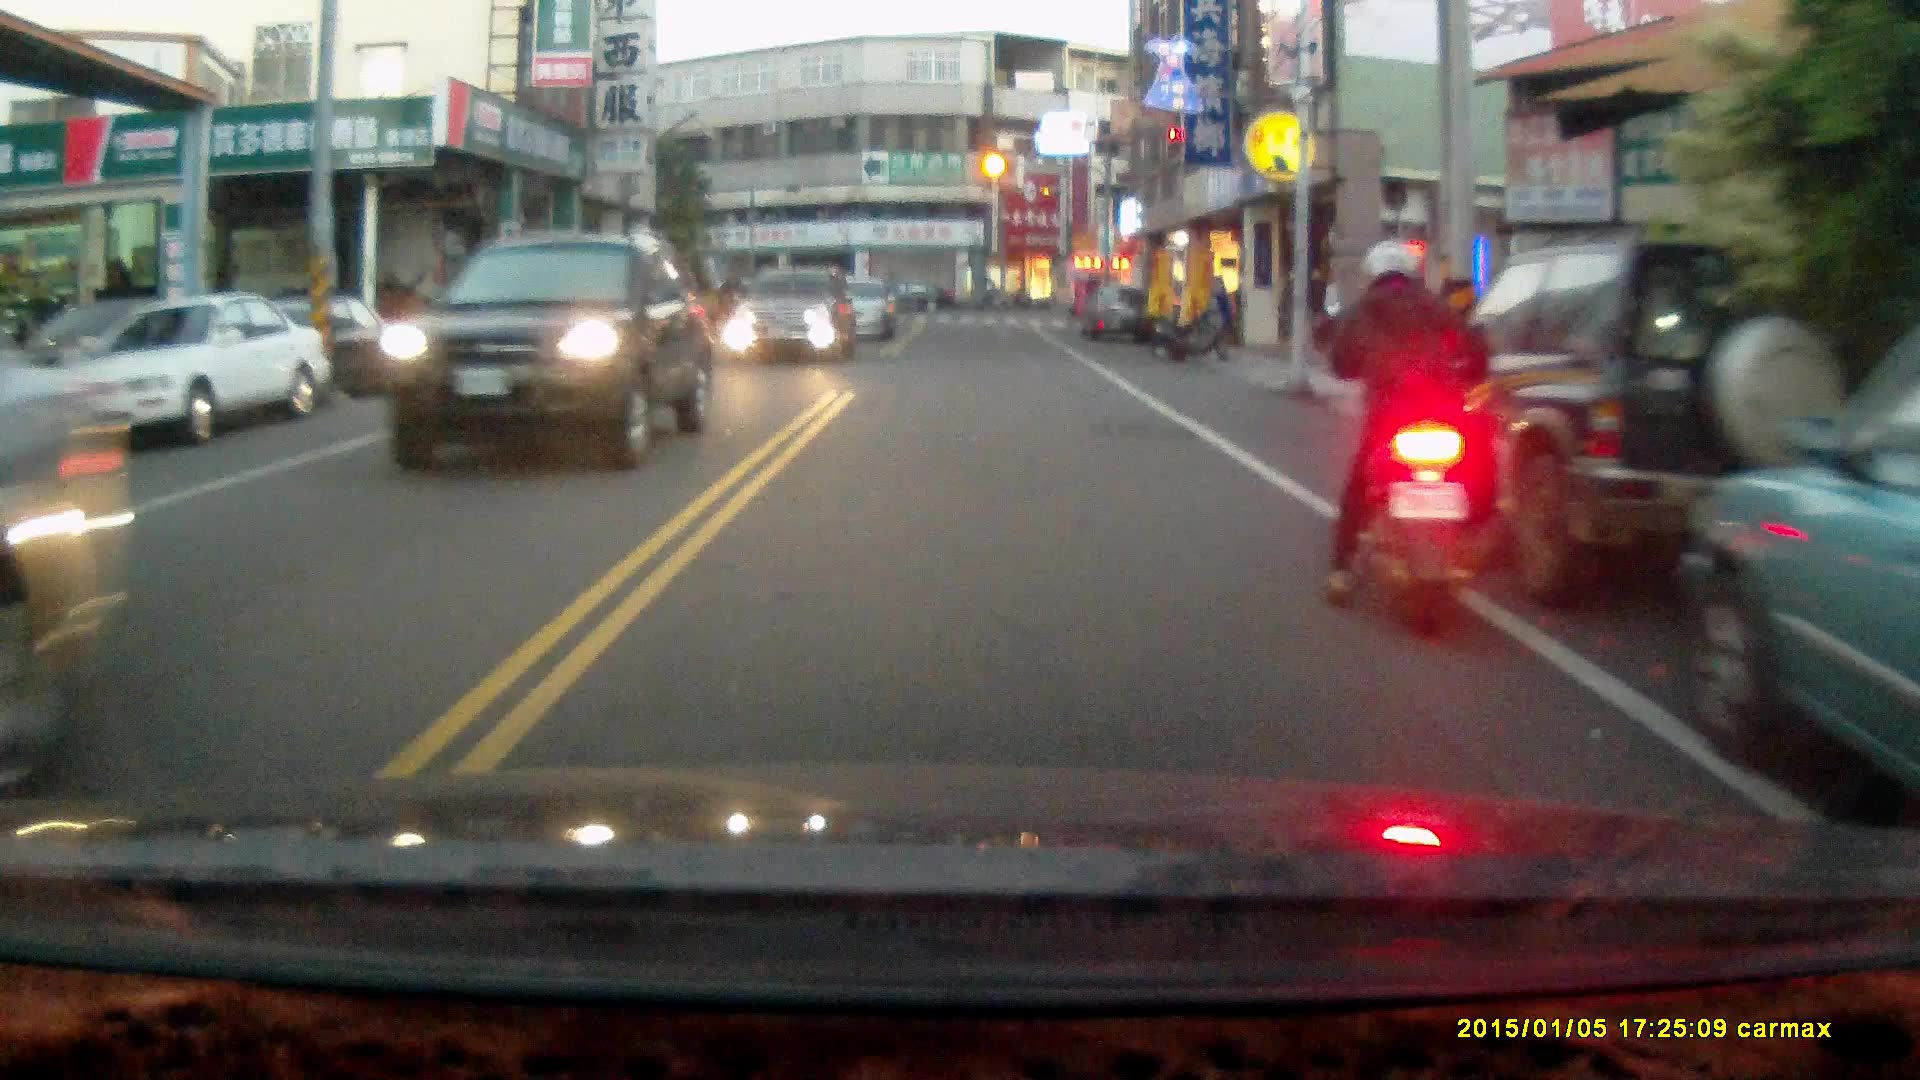rider: (1314, 238, 1525, 642)
vehicle: (1383, 242, 1906, 619), (1669, 324, 1920, 802), (376, 240, 703, 479), (44, 295, 337, 462), (723, 273, 862, 371), (1081, 286, 1153, 349)
